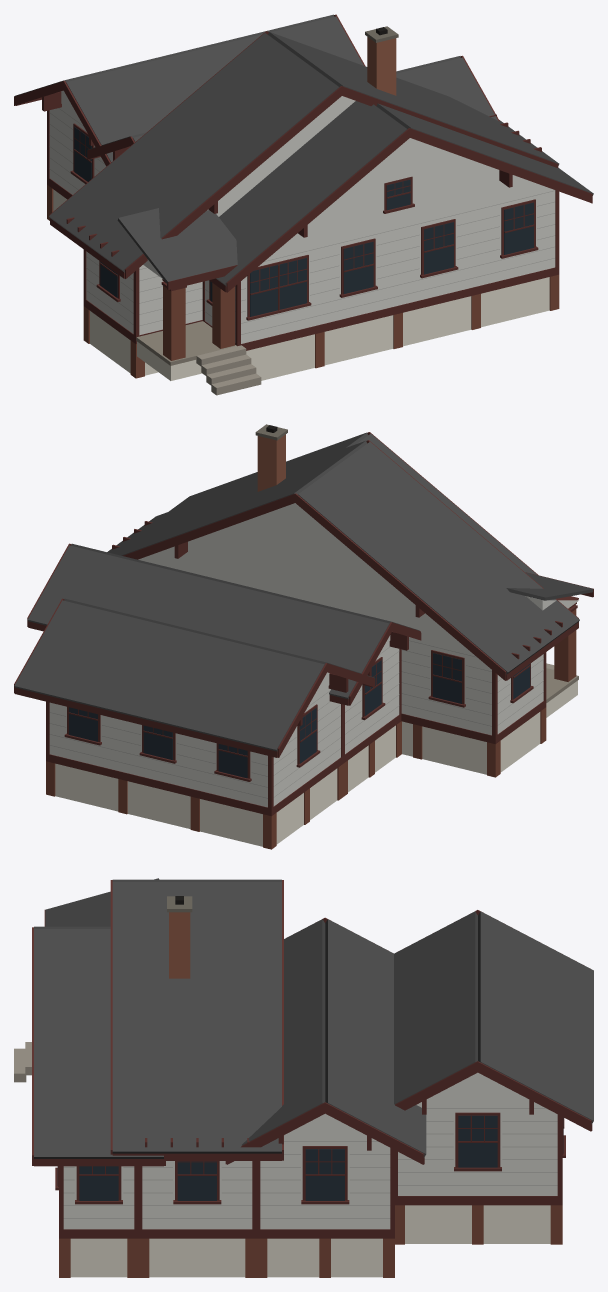
File: frame-cottage-0002.glb
The picture shows the model from 3 angles, top to bottom: view 1: azimuth 30°, elevation 25°; view 2: azimuth 150°, elevation 25°; view 3: azimuth 270°, elevation 25°; orthographic projection. The views are drawn at different scales.
Visible parts, largest first — view 1: kit-frame-cottage-0002; view 2: kit-frame-cottage-0002; view 3: kit-frame-cottage-0002.
Part boxes in pixels (x1,y1,x2,y2): kit-frame-cottage-0002: [14, 14, 593, 395]; kit-frame-cottage-0002: [14, 424, 593, 849]; kit-frame-cottage-0002: [14, 878, 593, 1277].
Bounding box in the file's own units: 14.64 × 8.69 × 14.74.
